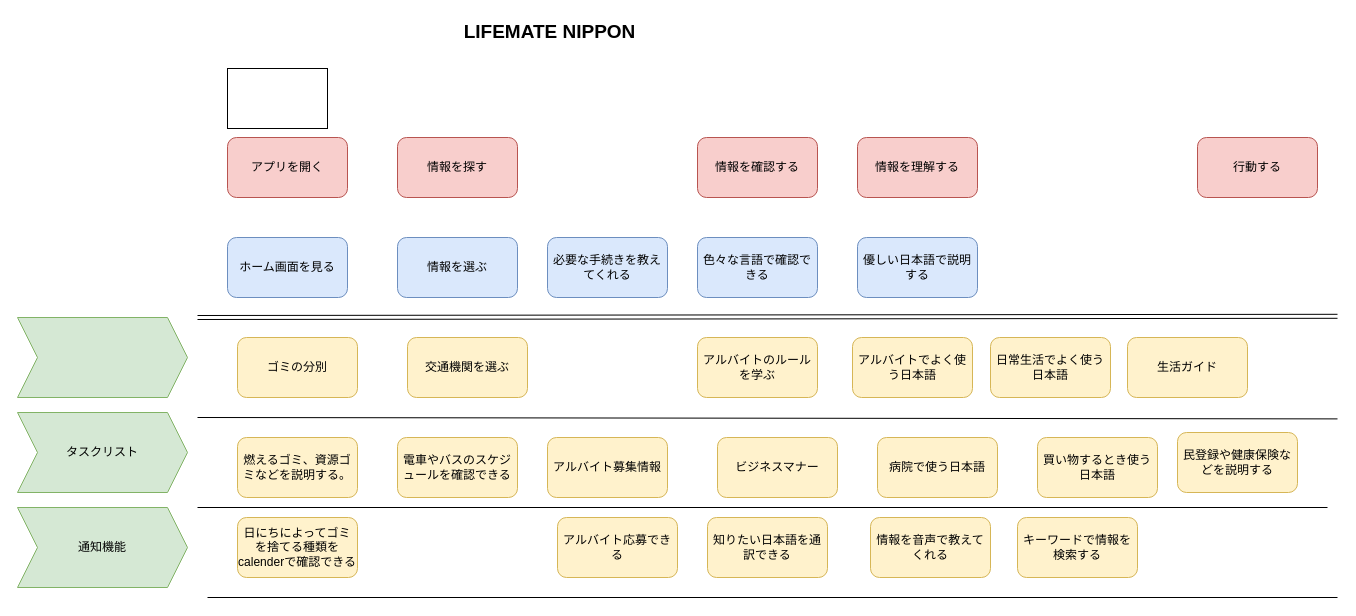
Image size: 1356x616. Some labels were removed from this diagram. The centre of each missing label's shape, as x and y in pixels:
"ウォーキングスケルトン" goes at point (102, 357).
"留学生" goes at point (277, 98).
